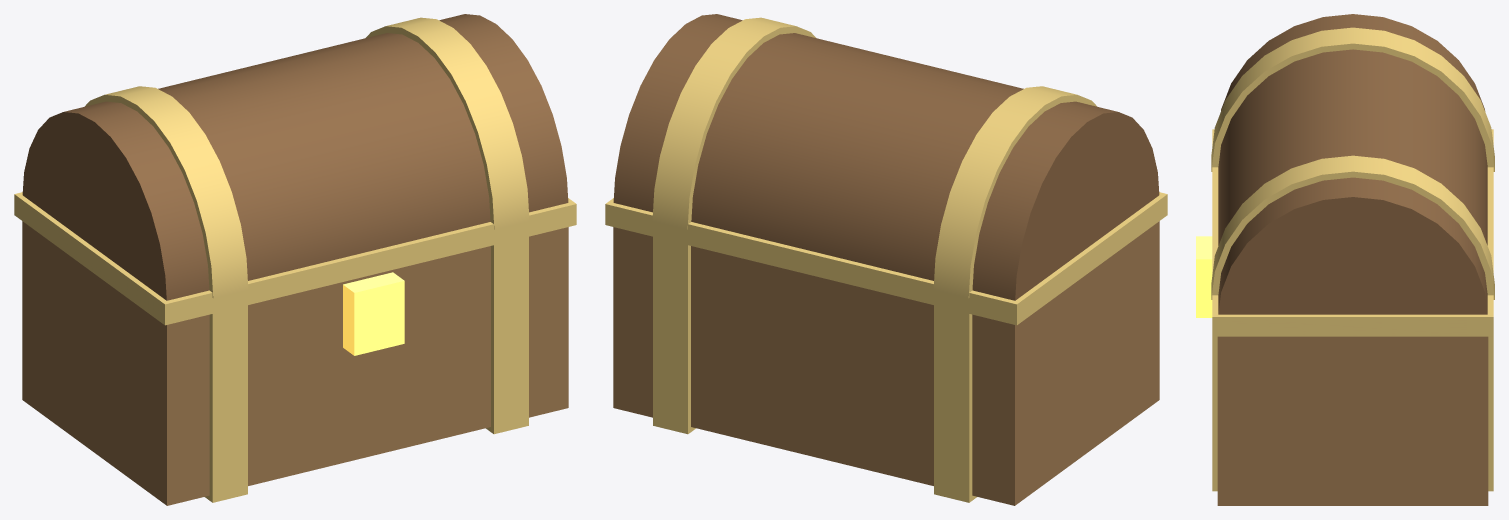
File: chest.glb
The picture shows the model from 3 angles, left to right: view 1: azimuth 30°, elevation 25°; view 2: azimuth 150°, elevation 25°; view 3: azimuth 270°, elevation 25°; orthographic projection. The views are drawn at different scales.
Visible parts, largest first — view 1: lid, body, bands, lidBands, lock; view 2: body, lid, bands, lidBands; view 3: lid, body, lidBands, bands, lock.
Boxes of the visible parts, left/top/right/bottom form: lid: left=22, top=14, right=568, bottom=300; body: left=22, top=221, right=568, bottom=505; bands: left=14, top=192, right=576, bottom=502; lidBands: left=85, top=17, right=529, bottom=298; lock: left=343, top=272, right=404, bottom=355; body: left=613, top=221, right=1159, bottom=505; lid: left=613, top=14, right=1159, bottom=300; bands: left=605, top=192, right=1167, bottom=502; lidBands: left=652, top=17, right=1096, bottom=298; lid: left=1218, top=14, right=1487, bottom=314; body: left=1217, top=336, right=1488, bottom=505; lidBands: left=1211, top=27, right=1494, bottom=299; bands: left=1212, top=129, right=1493, bottom=491; lock: left=1196, top=236, right=1212, bottom=317.
Size of the model in its own units: 0.82 by 0.652 by 0.552.
